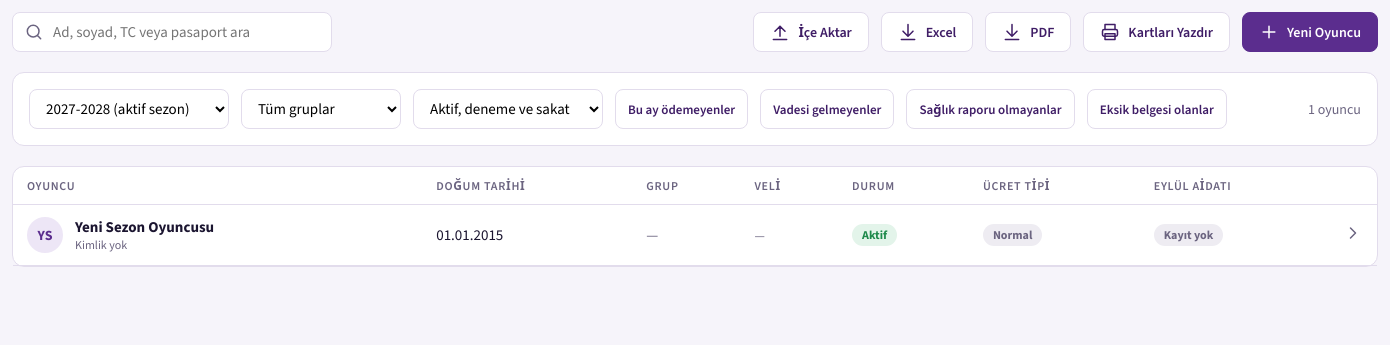
Scenario: Oyuncular sezon filtresi › eski sezon seçilince o sezonun (pasif) oyuncuları; 'Tüm sezonlar' sezon süzgecini kaldırır
Expected: the text "Yeni Sezon Oyuncusu" is shown, [75,217,214,237]
Select "2026-2027" in the dropdown named "Sezon" at (129,109), box [29,89,229,129]
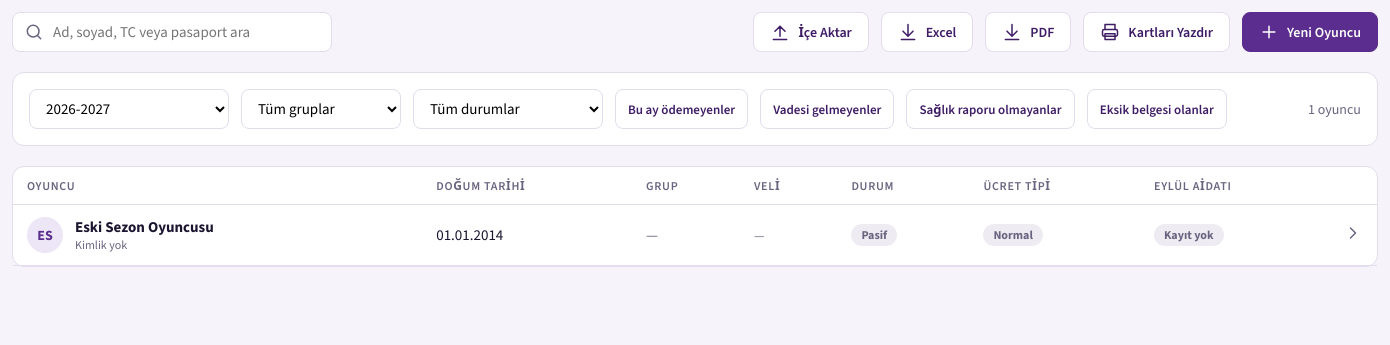
Expected: the dropdown named "Durum" shows "Tüm durumlar", [413,89,603,129]
Expected: the text "Eski Sezon Oyuncusu" is shown, [75,217,214,237]
Select "2027-2028 (aktif sezon)" in the dropdown named "Sezon" at (129,109), box [29,89,229,129]
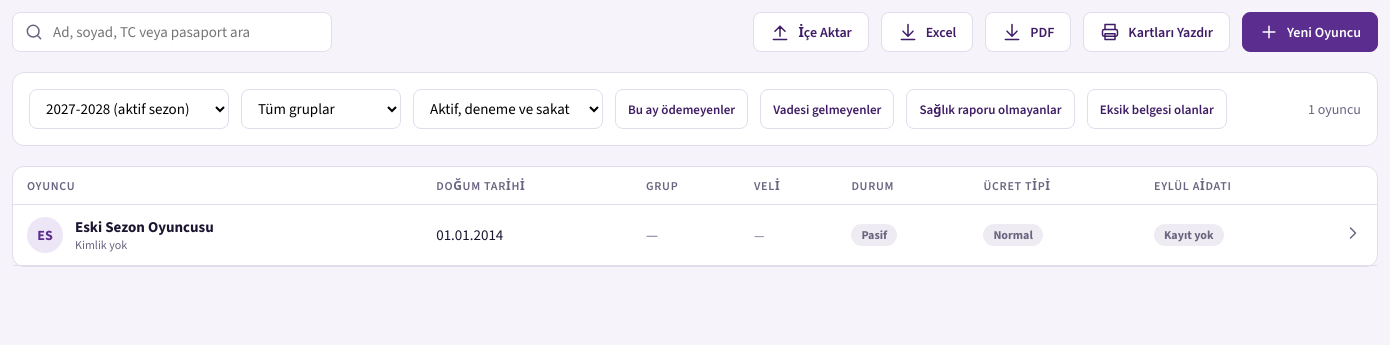
Expected: the dropdown named "Durum" shows "Aktif, deneme ve sakat", [413,89,603,129]
Select "Tüm sezonlar" in the dropdown named "Sezon" at (129,109), box [29,89,229,129]
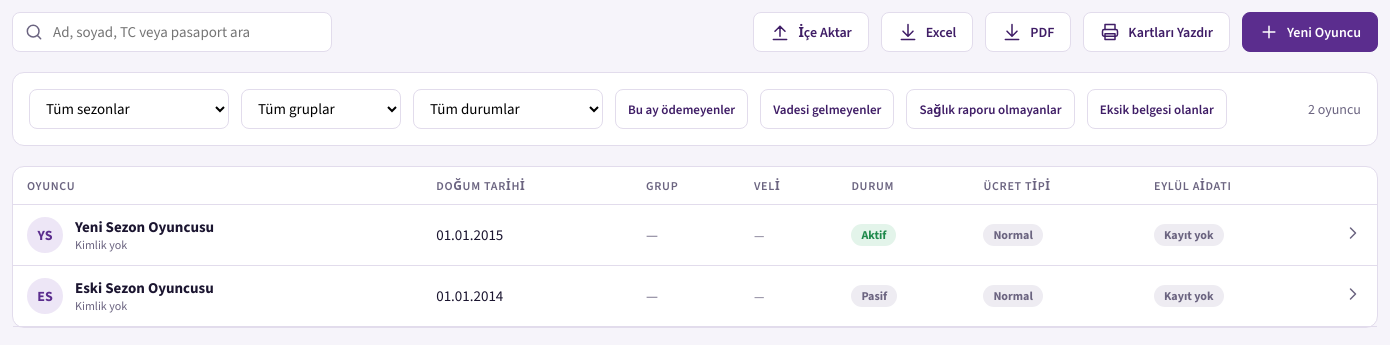
Expected: the text "Eski Sezon Oyuncusu" is shown, [75,278,214,298]
Expected: the text "Yeni Sezon Oyuncusu" is shown, [75,217,214,237]
